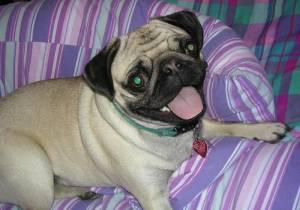dog-pug: (82, 8, 206, 126)
